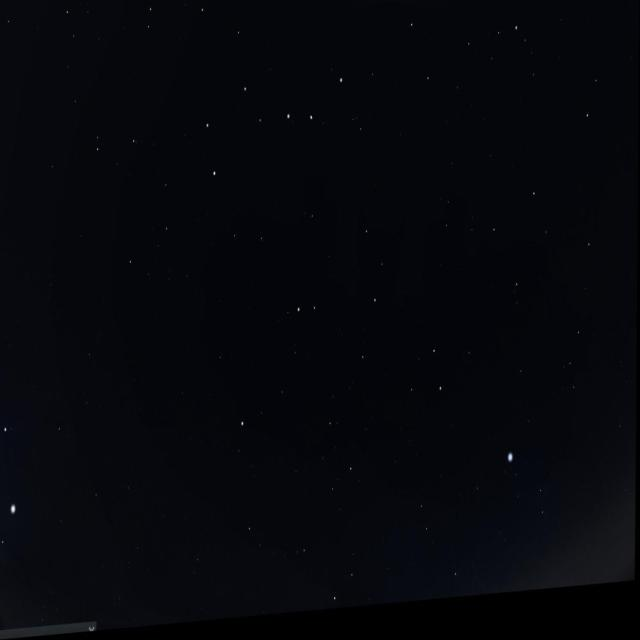lyra: (496, 452, 552, 551)
ursa_major: (202, 54, 347, 196)
